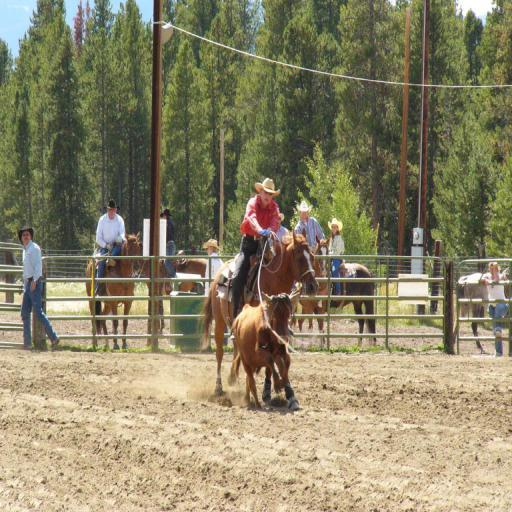Horse: (196, 227, 318, 409), (232, 290, 301, 408), (84, 231, 142, 349), (137, 241, 208, 335), (313, 261, 377, 348), (287, 236, 331, 348), (457, 266, 512, 353)
